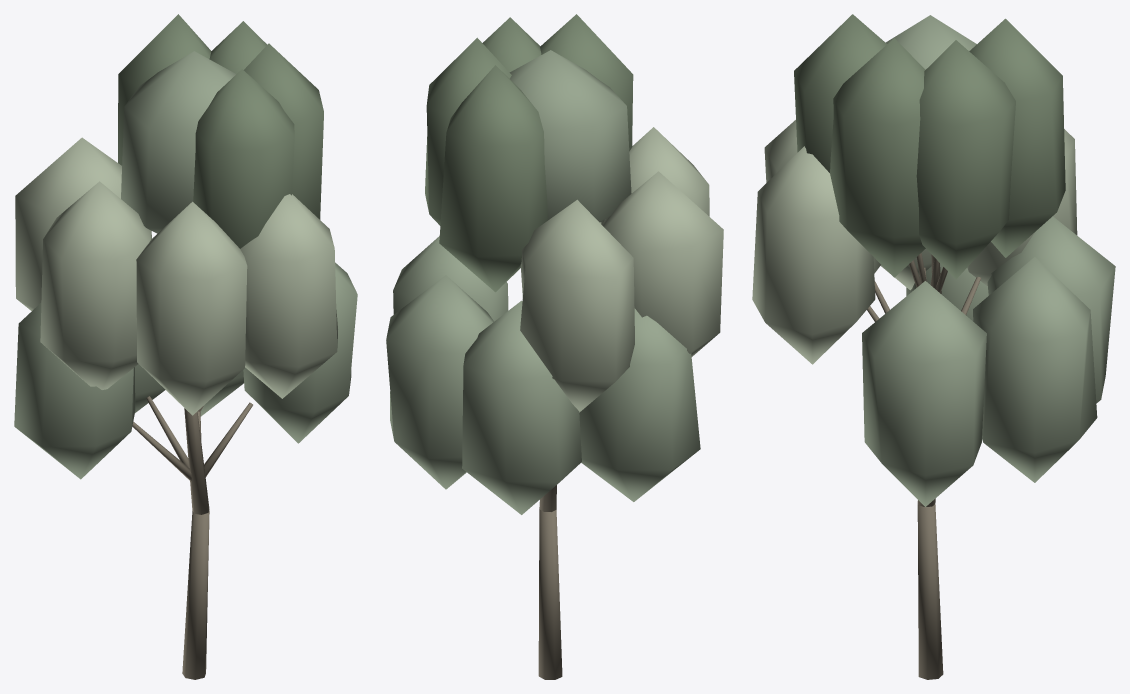
Rendered from SM_MPR3_Tree_1_LOD2.fbx.
3 views of the same model, side by side, from view 1: azimuth 30°, elevation 25°; view 2: azimuth 150°, elevation 25°; view 3: azimuth 270°, elevation 25° (orthographic). The views are drawn at different scales.
Parts seen in each view (by area): view 1: SM_MPR3_Tree_1_LOD2; view 2: SM_MPR3_Tree_1_LOD2; view 3: SM_MPR3_Tree_1_LOD2.
Boxes of the visible parts, x1,y1,x2,y2 form: SM_MPR3_Tree_1_LOD2: [14, 14, 357, 679]; SM_MPR3_Tree_1_LOD2: [386, 14, 723, 679]; SM_MPR3_Tree_1_LOD2: [752, 14, 1115, 679].
Bounding box in the file's own units: 531 × 514 × 1040.
